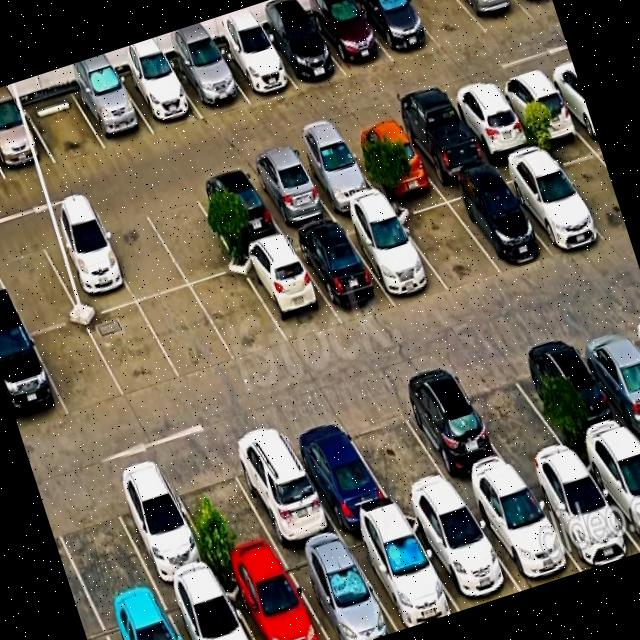empty: (452, 350, 574, 475), (162, 447, 281, 573), (44, 481, 157, 613), (337, 391, 459, 511), (391, 192, 501, 291), (141, 185, 240, 285), (93, 204, 189, 302), (85, 302, 182, 398), (138, 286, 236, 380), (31, 320, 125, 417), (544, 135, 629, 240), (192, 271, 289, 361), (0, 235, 81, 334), (23, 90, 106, 163), (404, 0, 487, 50)
occupied: (392, 369, 519, 496), (222, 422, 340, 552), (103, 463, 218, 591), (279, 410, 397, 532), (520, 330, 635, 453), (343, 516, 460, 631), (521, 458, 640, 571), (463, 477, 582, 590), (404, 499, 521, 611), (280, 537, 398, 640), (493, 151, 606, 253), (238, 239, 342, 345), (441, 174, 550, 272), (290, 223, 395, 324), (340, 208, 449, 304), (37, 219, 136, 318), (219, 556, 328, 640), (569, 316, 640, 434), (392, 102, 490, 184), (191, 168, 285, 253), (244, 152, 335, 234), (291, 137, 383, 216), (342, 119, 436, 196), (0, 332, 69, 434), (447, 84, 537, 161), (494, 68, 583, 144), (579, 436, 640, 546), (307, 0, 393, 77), (260, 17, 346, 90), (71, 76, 154, 149), (118, 63, 203, 134), (161, 575, 253, 640), (214, 35, 298, 103), (353, 0, 441, 62), (170, 50, 249, 118), (0, 105, 55, 179), (99, 594, 182, 640), (460, 0, 533, 33)
